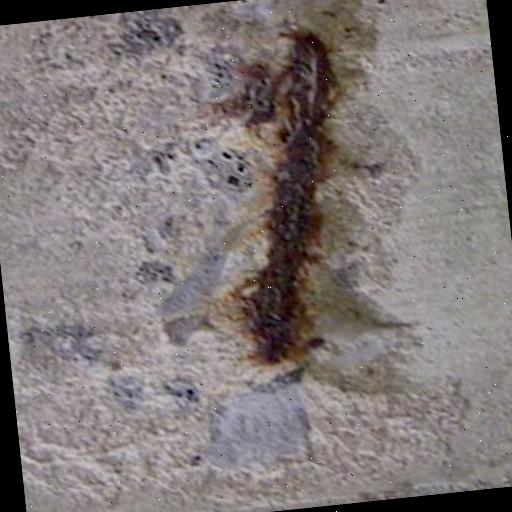spalling: (150, 0, 407, 422)
